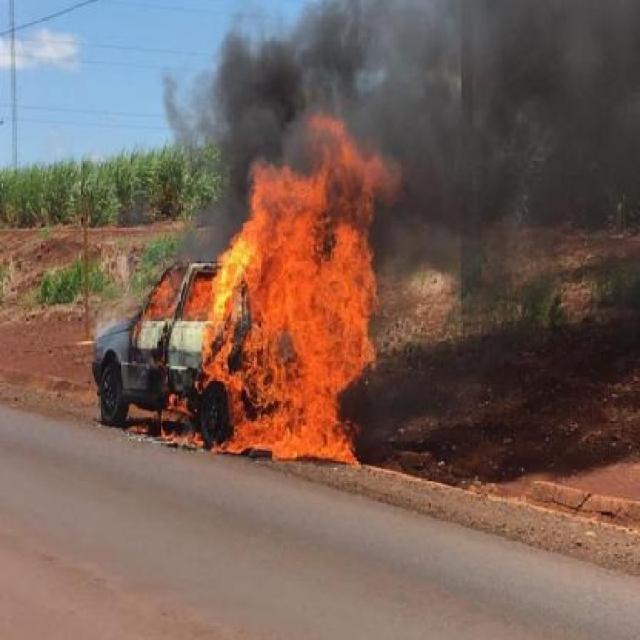Fire: (145, 115, 391, 468), (164, 383, 192, 412), (182, 431, 207, 457), (156, 422, 179, 444)
Smoke: (398, 0, 640, 231), (222, 7, 401, 115), (458, 229, 550, 322), (228, 111, 330, 171), (586, 227, 640, 318), (401, 225, 464, 278), (194, 222, 234, 262), (224, 168, 250, 226)
